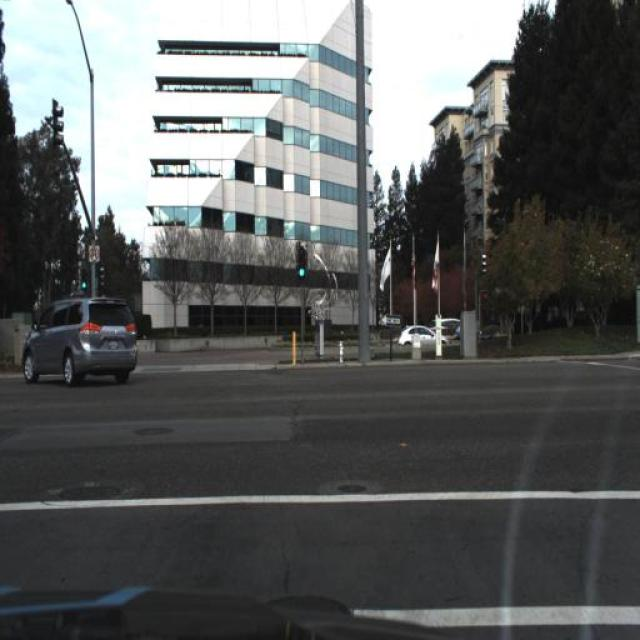car: (23, 290, 139, 389), (432, 314, 476, 350), (397, 326, 448, 352)
trafficLight-GreenLeft: (297, 220, 321, 294), (73, 265, 94, 313), (297, 239, 308, 281), (78, 266, 91, 296)
